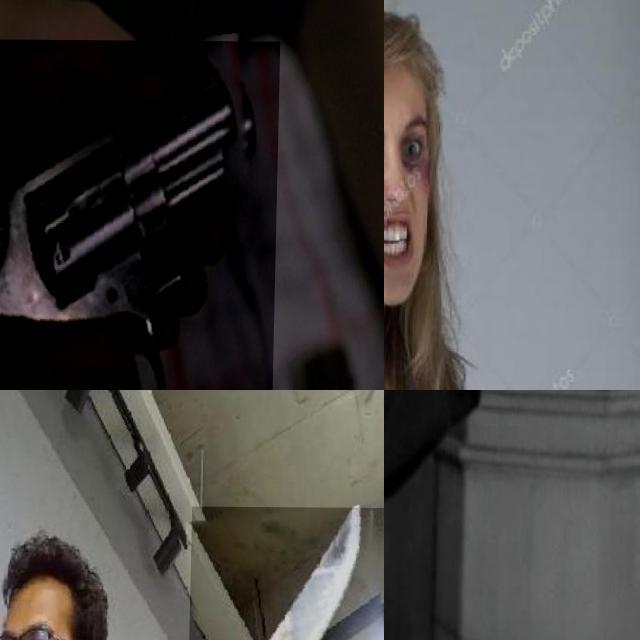-: (188, 506, 384, 640), (384, 49, 462, 333)
gun-knife-thesis - v11 Yolov5 augmented: (0, 38, 280, 390), (450, 390, 580, 485)
